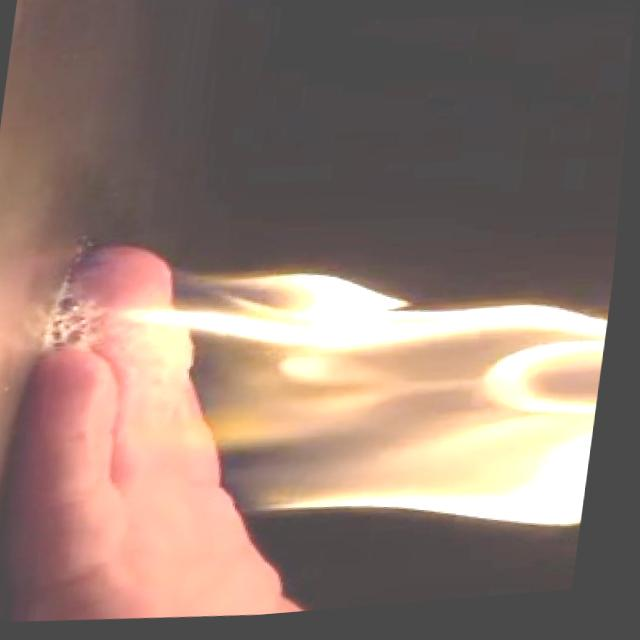Fire: (93, 234, 622, 583)
